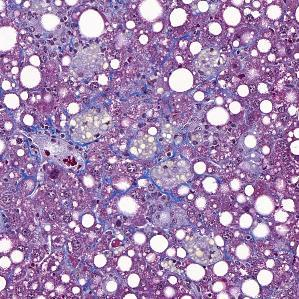fibrosis: (109, 116, 203, 188)
